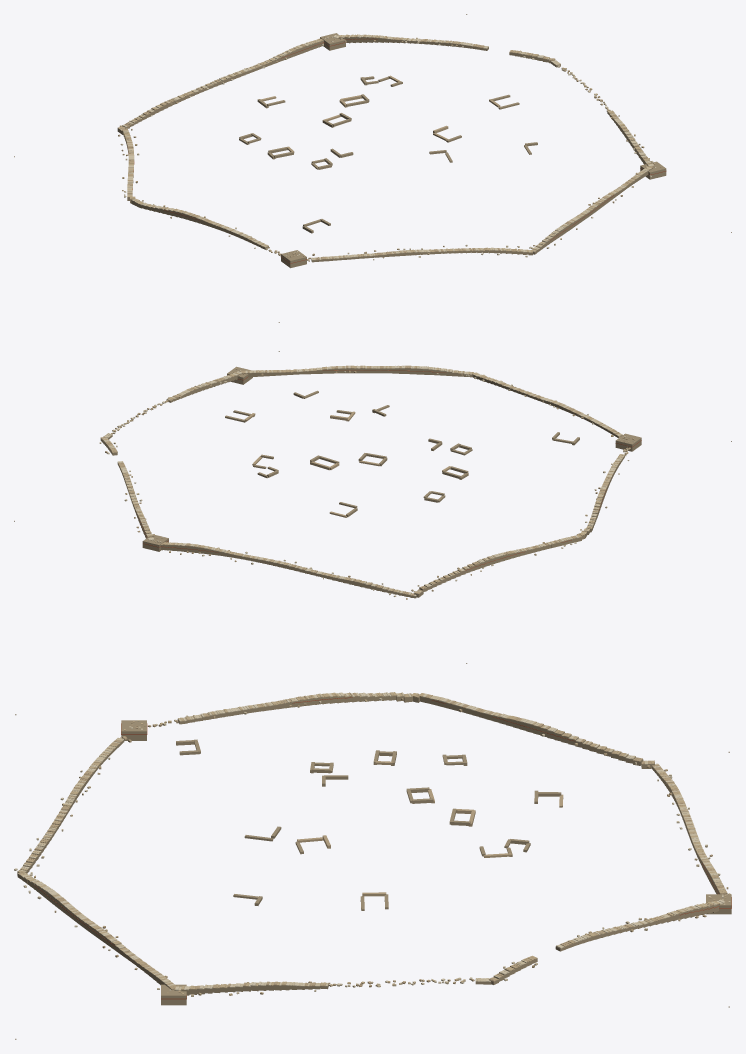
The model's file is antik-sur-kalintisi.glb.
The picture shows the model from 3 angles, top to bottom: view 1: azimuth 30°, elevation 25°; view 2: azimuth 150°, elevation 25°; view 3: azimuth 270°, elevation 25°; orthographic projection. The views are drawn at different scales.
Visible parts, largest first — view 1: tas_koyu, tas3, tas2, tas4, tas1; view 2: tas_koyu, tas3, tas2, tas1, tas4; view 3: tas_koyu, tas3, tas2, tas4, tas1.
Boxes of the visible parts, left/top/right/bottom form: tas_koyu: left=14, top=14, right=731, bottom=322; tas3: left=118, top=34, right=661, bottom=261; tas2: left=118, top=34, right=656, bottom=260; tas4: left=120, top=34, right=656, bottom=260; tas1: left=120, top=34, right=653, bottom=260; tas_koyu: left=14, top=351, right=731, bottom=663; tas3: left=100, top=365, right=635, bottom=599; tas2: left=101, top=365, right=629, bottom=595; tas1: left=103, top=365, right=634, bottom=596; tas4: left=99, top=365, right=629, bottom=596; tas_koyu: left=15, top=693, right=731, bottom=1039; tas3: left=18, top=692, right=727, bottom=993; tas2: left=17, top=692, right=730, bottom=995; tas4: left=14, top=692, right=724, bottom=994; tas1: left=19, top=692, right=730, bottom=996.
Size of the model in its own units: 198 by 29.75 by 201.
